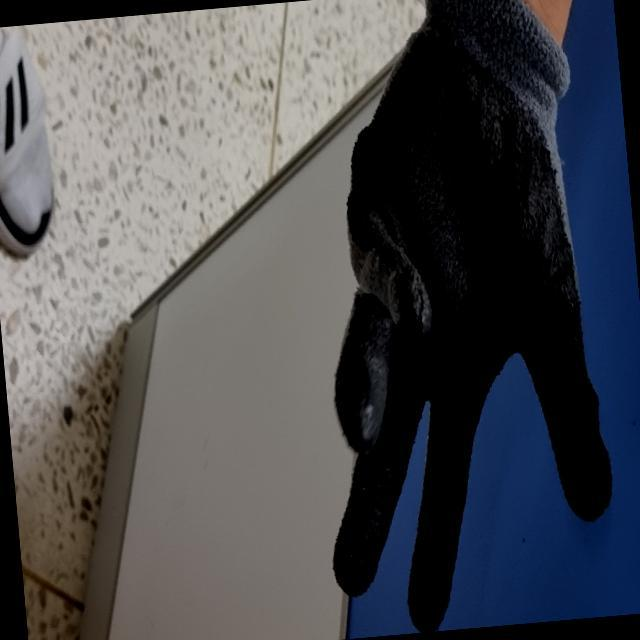Gloves: (323, 0, 620, 636)
